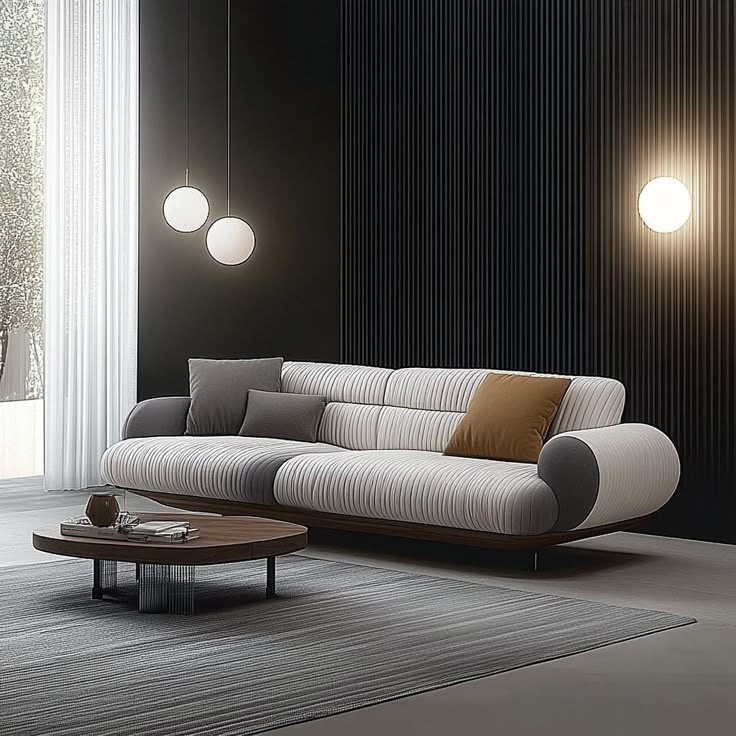3seatersofa: (102, 357, 678, 570)
backrest: (282, 361, 501, 451), (547, 377, 624, 439)
base: (152, 493, 628, 548)
leftarmrest: (538, 424, 679, 531)
leg: (530, 553, 536, 571)
pillow: (186, 358, 326, 440), (443, 373, 570, 461)
rightarmrest: (123, 396, 189, 438)
seat: (102, 437, 557, 536)
